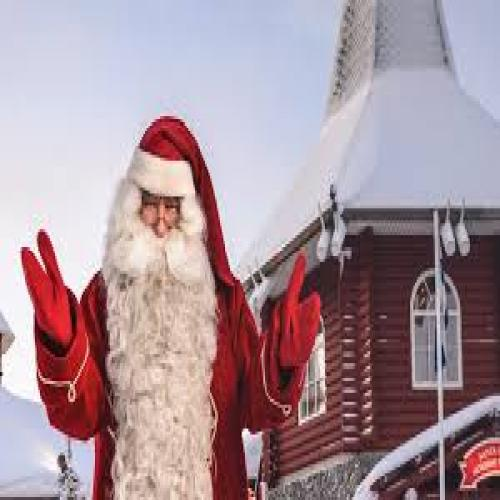Santa: (20, 116, 321, 500)
